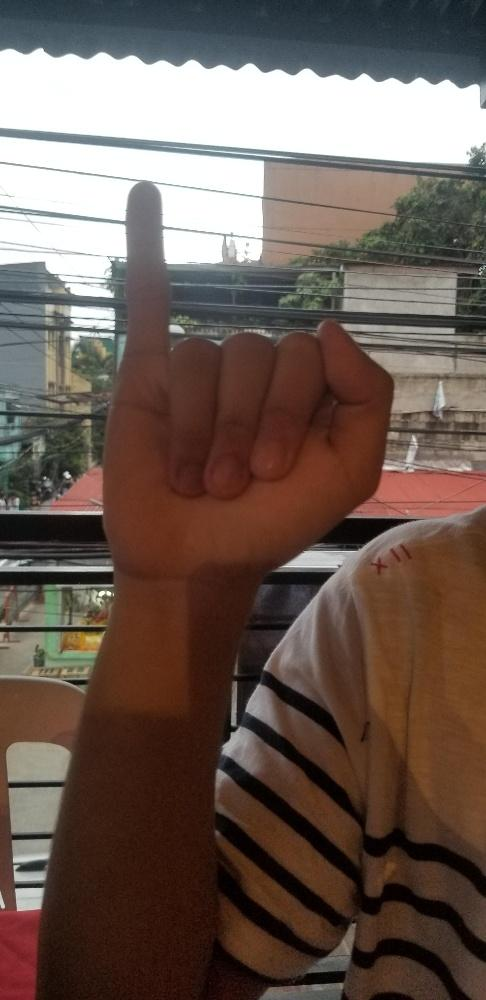i: (99, 181, 396, 575)
